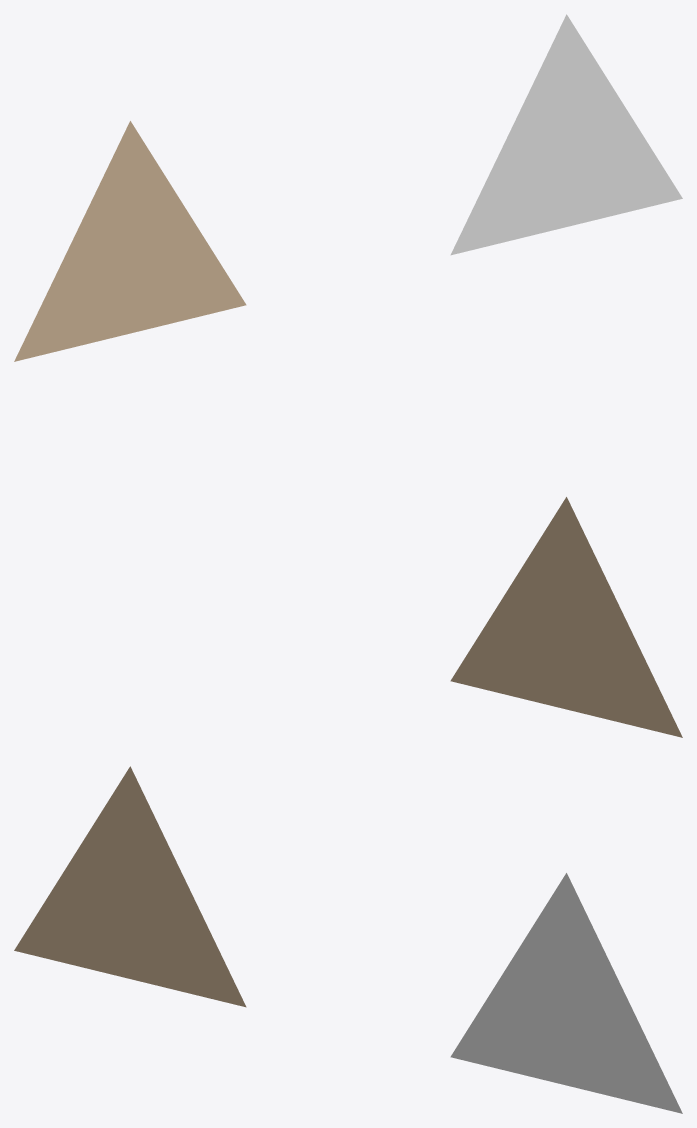
The model's file is double-sided.gltf.
The picture shows the model from 3 angles, top to bottom: view 1: azimuth 30°, elevation 25°; view 2: azimuth 150°, elevation 25°; view 3: azimuth 330°, elevation 25°; orthographic projection.
Bounding box in the file's own units: 4.6 × 1.4 × 0.
